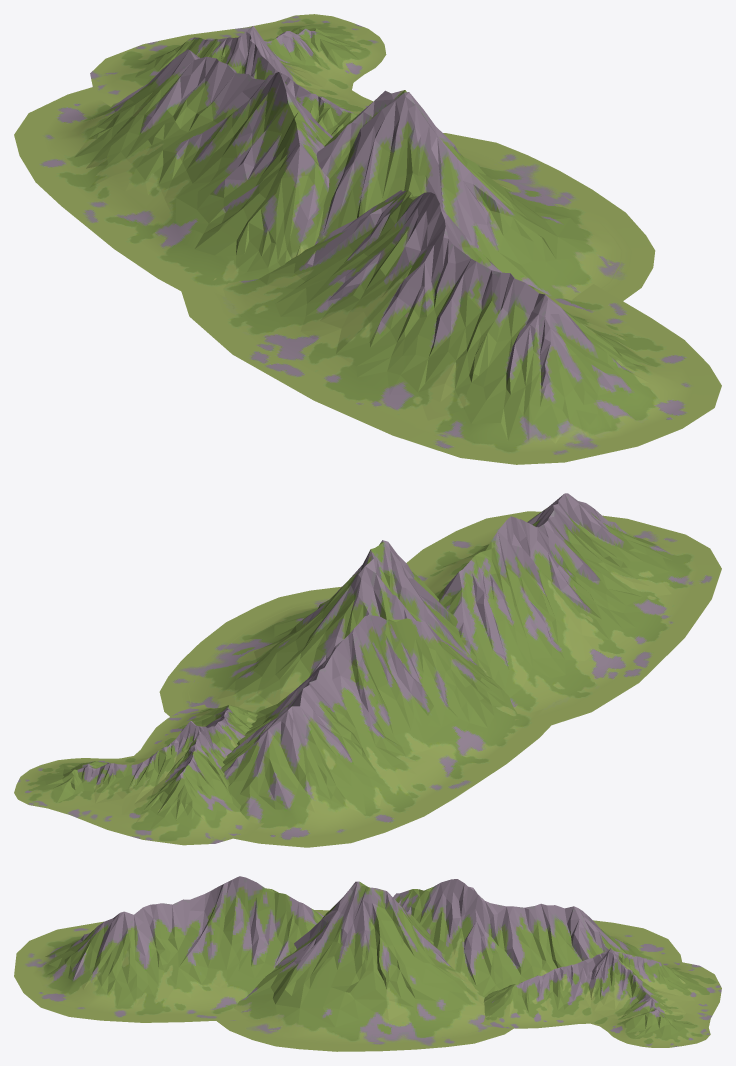
The model's file is build_mountain_G 1.FBX.
The picture shows the model from 3 angles, top to bottom: view 1: azimuth 30°, elevation 25°; view 2: azimuth 150°, elevation 25°; view 3: azimuth 270°, elevation 25°; orthographic projection. The views are drawn at different scales.
Parts seen in each view (by area): view 1: mountain_C_grass_LOD0_002, mountain_C_grass_LOD0_001, mountain_B_grass_LOD0_0, mountain_A_grass_LOD0_0, mountain_C_grass_edge_LOD0_002, mountain_C_grass_edge_LOD0_001, mountain_B_grass_edge_LOD0_0; view 2: mountain_C_grass_LOD0_001, mountain_C_grass_LOD0_002, mountain_A_grass_LOD0_0, mountain_B_grass_LOD0_0, mountain_C_grass_edge_LOD0_002, mountain_C_grass_edge_LOD0_001, mountain_B_grass_edge_LOD0_0; view 3: mountain_C_grass_LOD0_002, mountain_B_grass_LOD0_0, mountain_A_grass_LOD0_0, mountain_C_grass_LOD0_001, mountain_C_grass_edge_LOD0_002, mountain_B_grass_edge_LOD0_0, mountain_C_grass_edge_LOD0_001.
Boxes of the visible parts, <box> form: mountain_C_grass_LOD0_002: <box>207,190,694,452</box>; mountain_C_grass_LOD0_001: <box>41,49,332,294</box>; mountain_B_grass_LOD0_0: <box>315,90,631,300</box>; mountain_A_grass_LOD0_0: <box>90,14,386,136</box>; mountain_C_grass_edge_LOD0_002: <box>181,278,721,464</box>; mountain_C_grass_edge_LOD0_001: <box>14,87,225,296</box>; mountain_B_grass_edge_LOD0_0: <box>443,133,655,300</box>; mountain_C_grass_LOD0_001: <box>221,615,538,837</box>; mountain_C_grass_LOD0_002: <box>417,493,698,719</box>; mountain_A_grass_LOD0_0: <box>14,704,263,845</box>; mountain_B_grass_LOD0_0: <box>179,540,472,712</box>; mountain_C_grass_edge_LOD0_002: <box>406,511,721,725</box>; mountain_C_grass_edge_LOD0_001: <box>234,709,550,847</box>; mountain_B_grass_edge_LOD0_0: <box>159,586,341,716</box>; mountain_C_grass_LOD0_002: <box>32,876,323,1014</box>; mountain_B_grass_LOD0_0: <box>233,881,496,1044</box>; mountain_A_grass_LOD0_0: <box>480,948,721,1047</box>; mountain_C_grass_LOD0_001: <box>393,879,663,997</box>; mountain_C_grass_edge_LOD0_002: <box>14,910,329,1022</box>; mountain_B_grass_edge_LOD0_0: <box>217,1020,513,1051</box>; mountain_C_grass_edge_LOD0_001: <box>593,920,681,961</box>.
Size of the model in its own units: 39.4 by 13.49 by 82.63.
